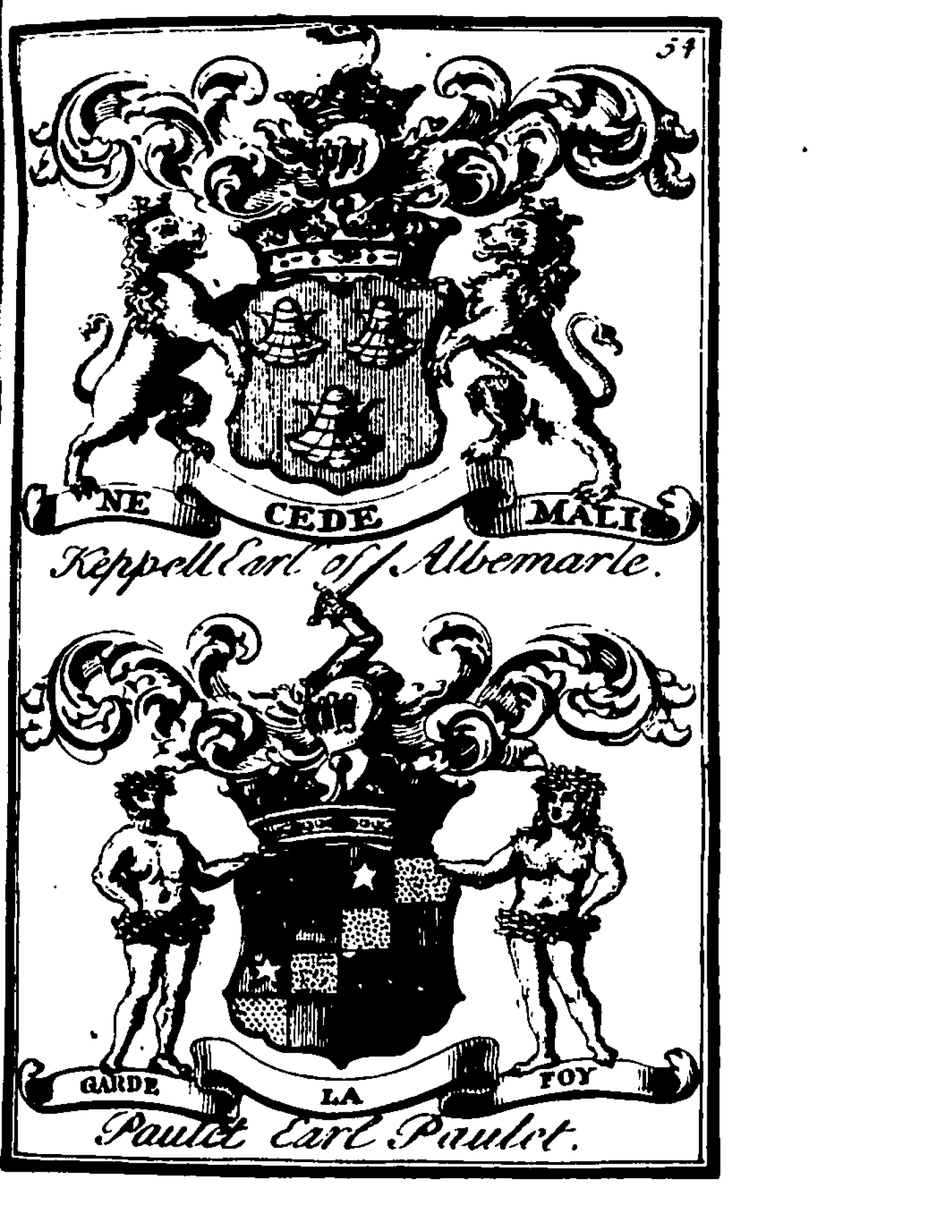coat_of_arms: (31, 584, 704, 1153), (23, 41, 700, 584)
